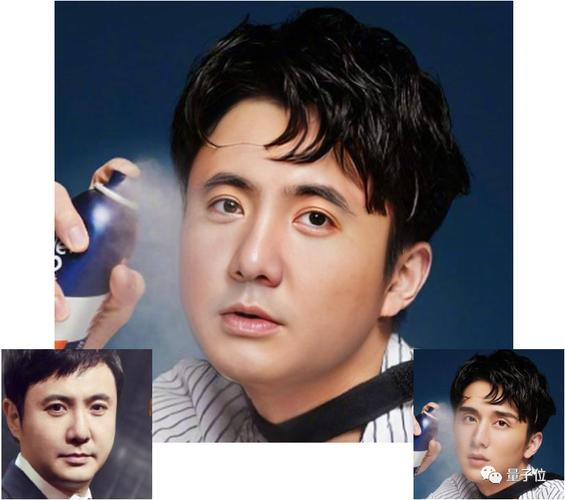nomask: (175, 49, 416, 355)
